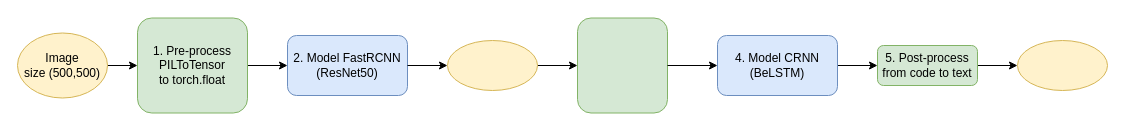
The diagram is 1125 pixels wide and 130 high, and some of its shapes have lost their labels. The centre of each missing label's shape, as x and y in pixels:
"3. Mid-process Sorting boxes resize image (w=500, h=32)" belongs at [622,65].
"Output text" belongs at [1062,65].
"Output: boxes Images" belongs at [492,65].
